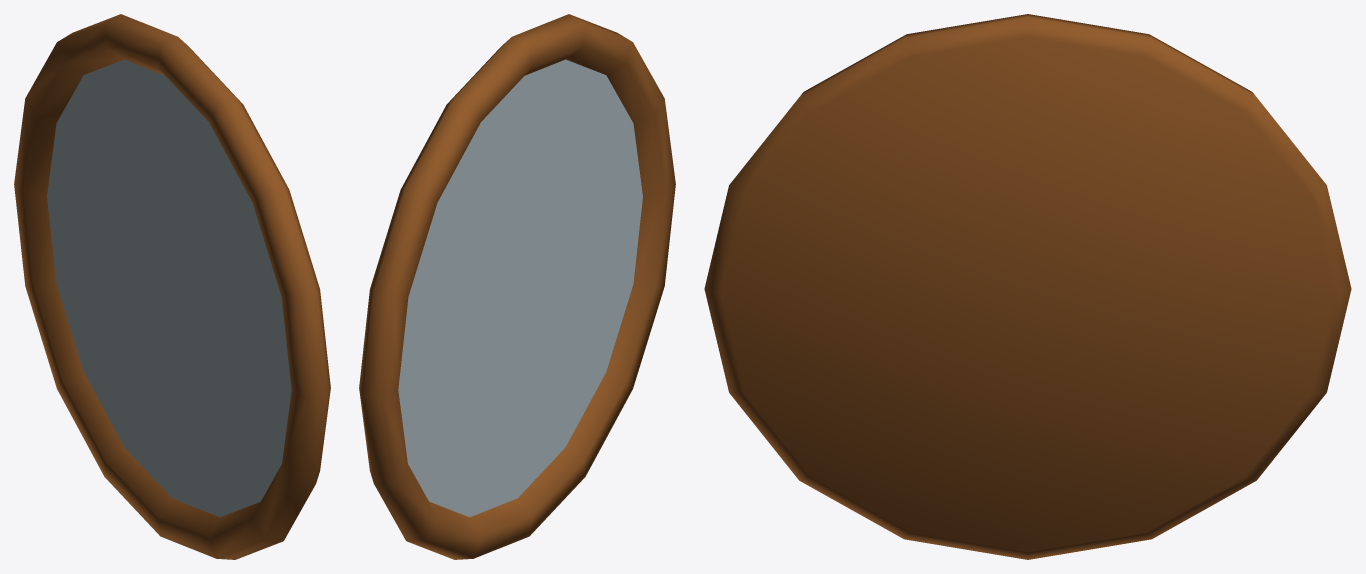
The model's file is Mirror.fbx.
The picture shows the model from 3 angles, left to right: view 1: azimuth 30°, elevation 25°; view 2: azimuth 150°, elevation 25°; view 3: azimuth 270°, elevation 25°; orthographic projection. The views are drawn at different scales.
Parts seen in each view (by area): view 1: Mirror; view 2: Mirror; view 3: Mirror.
Part boxes in pixels (x1,y1,x2,y2): Mirror: [14, 14, 330, 559]; Mirror: [359, 14, 675, 559]; Mirror: [704, 14, 1351, 559].
Size of the model in its own units: 0.0384 by 0.6347 by 0.5867.
